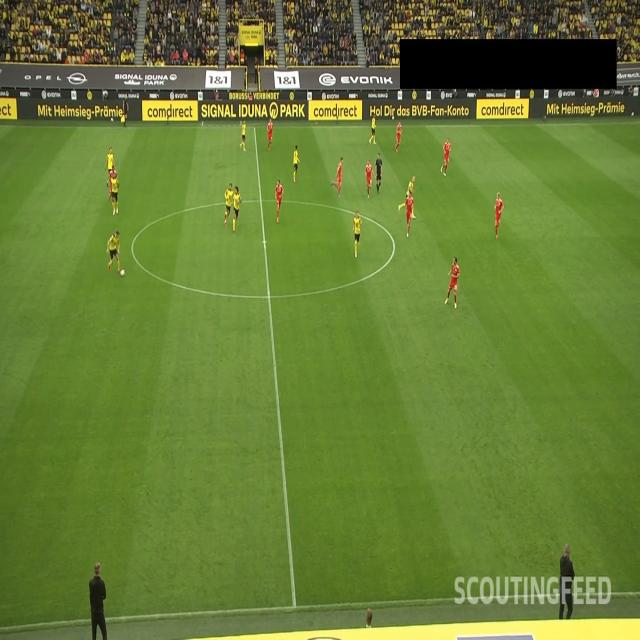ball: (120, 268, 126, 279)
